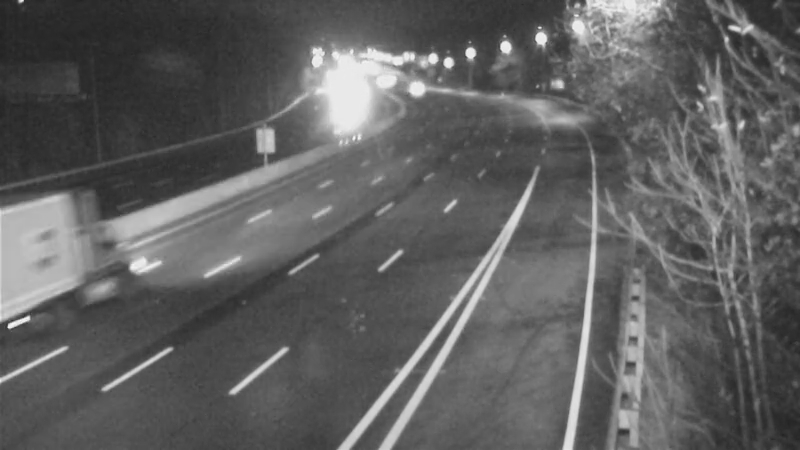vehicle: (15, 219, 95, 299), (388, 68, 438, 118), (321, 88, 371, 138)
